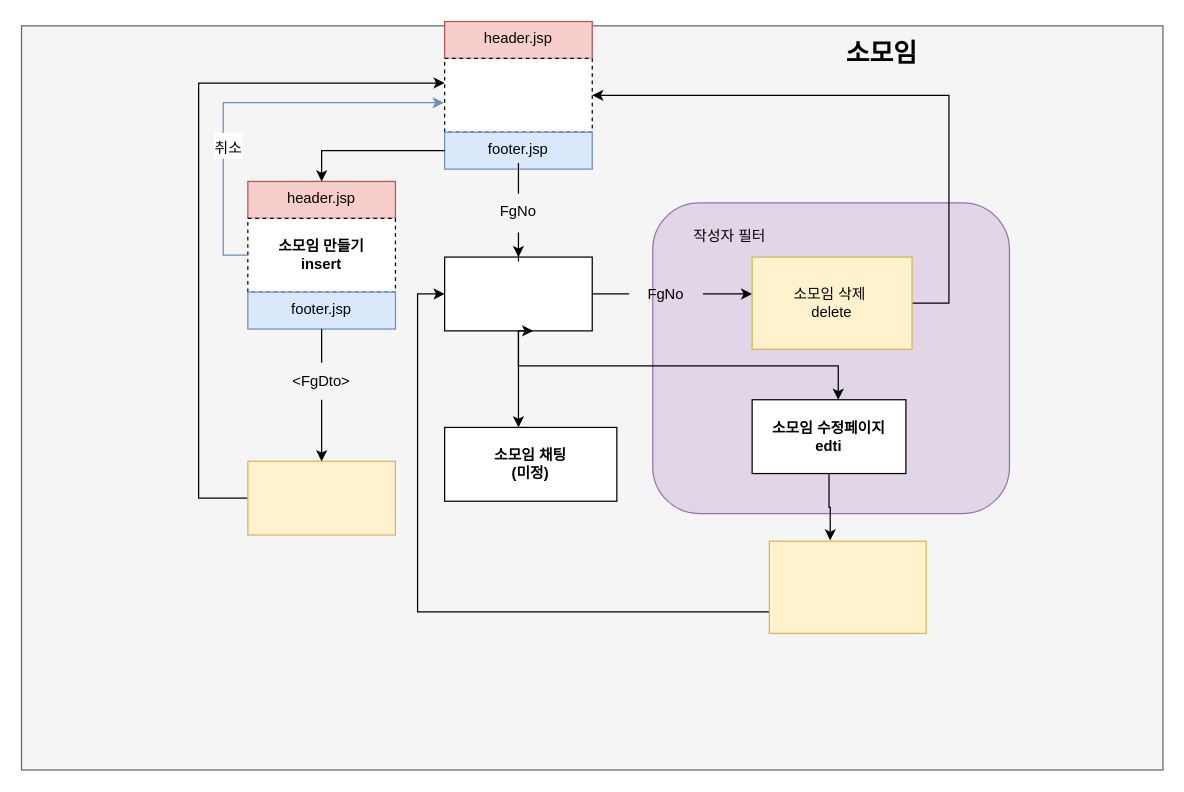
Image size: 1184x792. Some labels were removed from this diagram. Here are the shapes that lost their labels. From the top down, the centre of each, then its label:
At point 517,94: "소모임 list".
At point 517,293: "소모임 상세페이지 detail".
At point 321,497: "소모임 만들기 make".
At point 847,586: "소모임 수정 update".
